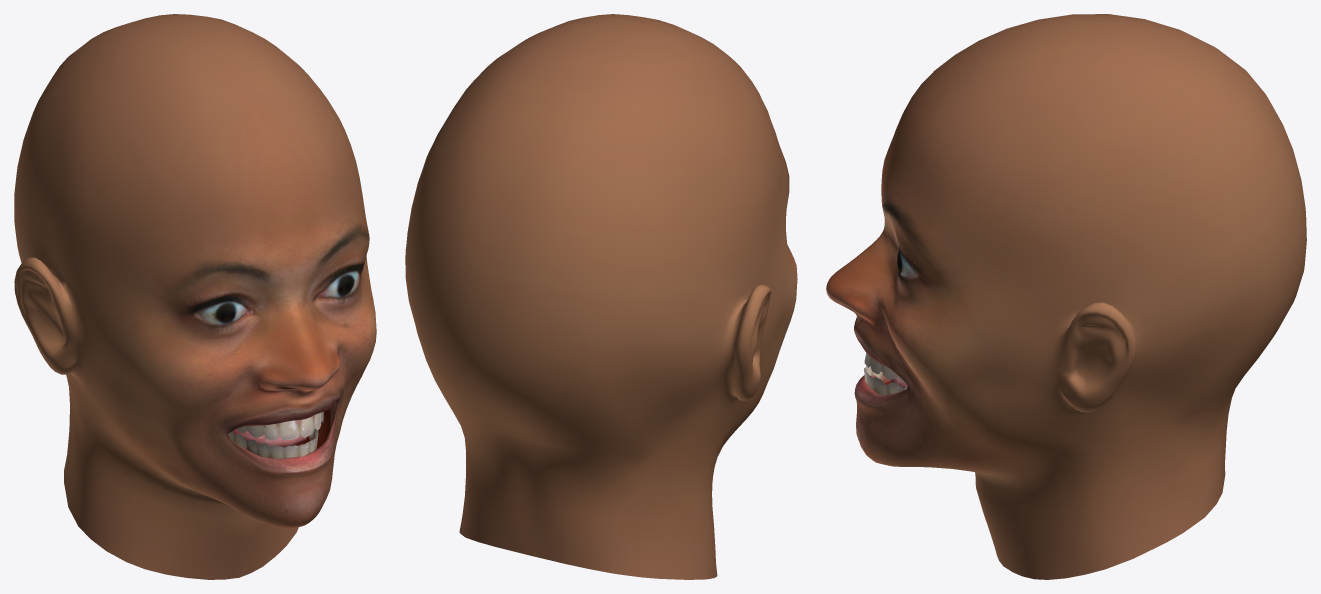
The model's file is v332_obj_ExpressionBaringTeeth.obj.
3 views of the same model, side by side, from view 1: azimuth 30°, elevation 25°; view 2: azimuth 150°, elevation 25°; view 3: azimuth 270°, elevation 25° (orthographic). The views are drawn at different scales.
Visible parts, largest first — view 1: HeadHires, Mouth; view 2: HeadHires; view 3: HeadHires, Mouth.
Boxes of the visible parts, x1,y1,x2,y2 form: HeadHires: (14,14,376,579); Mouth: (228,408,331,458); HeadHires: (405,14,797,579); HeadHires: (826,14,1306,579); Mouth: (864,353,907,395).
Bounding box in the file's own units: 187 × 282 × 233.
